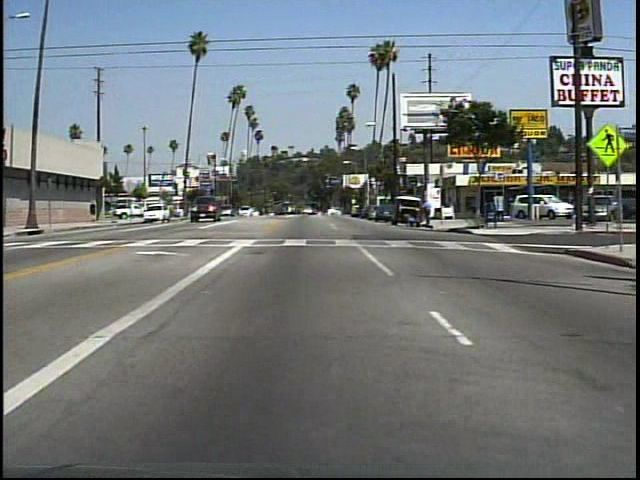person: (422, 197, 435, 230), (466, 193, 479, 221), (404, 212, 421, 230), (90, 199, 99, 227)
